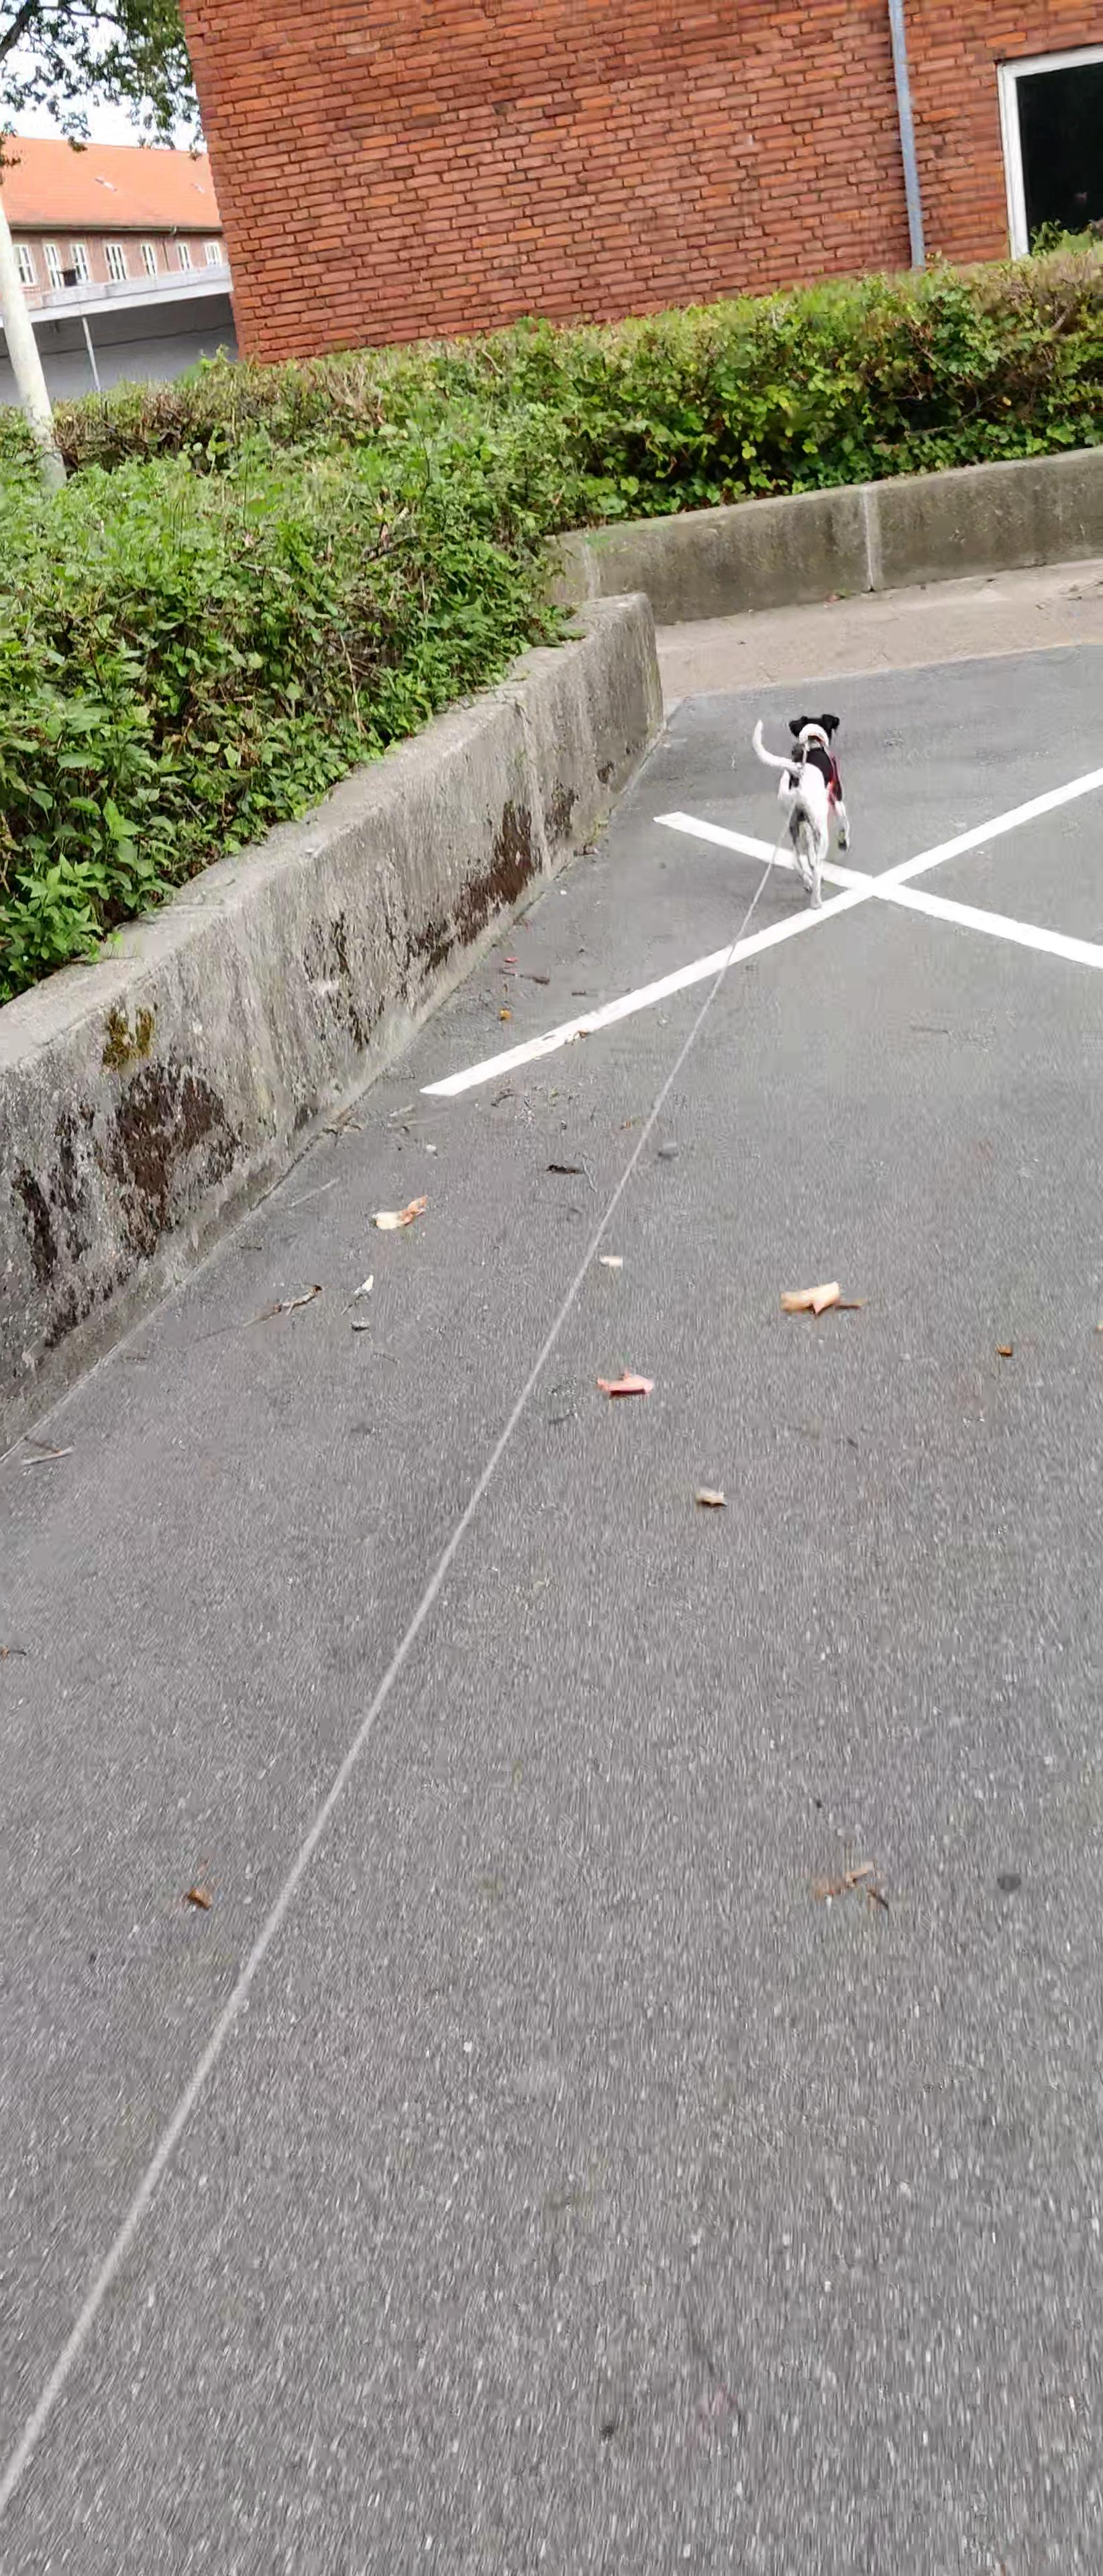Dog: (740, 695, 863, 923)
